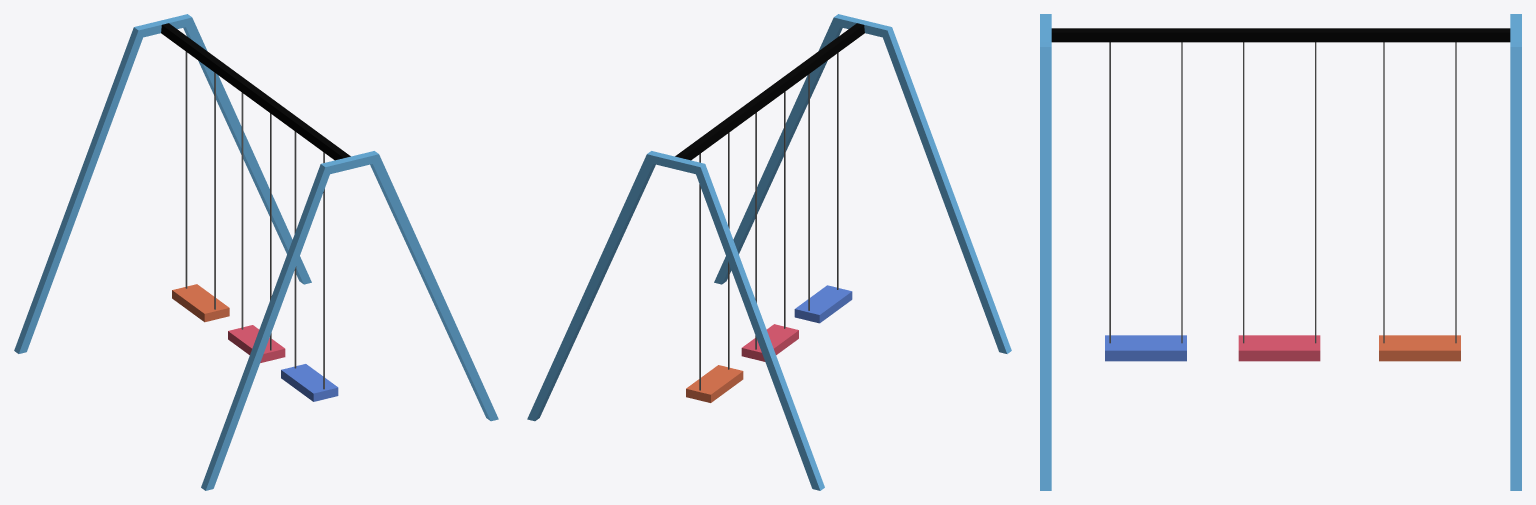
The model's file is swing.glb.
3 views of the same model, side by side, from view 1: azimuth 30°, elevation 25°; view 2: azimuth 150°, elevation 25°; view 3: azimuth 270°, elevation 25° (orthographic). The views are drawn at different scales.
Visible parts, largest first — view 1: Cube.012; view 2: Cube.012; view 3: Cube.012.
Part boxes in pixels (x1,y1,x2,y2): Cube.012: (14, 14, 498, 490); Cube.012: (527, 14, 1011, 490); Cube.012: (1040, 14, 1521, 490).
Size of the model in its own units: 0.8752 by 0.8396 by 0.9895.
